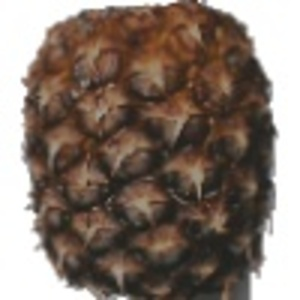abacaxi: (21, 2, 280, 298)
